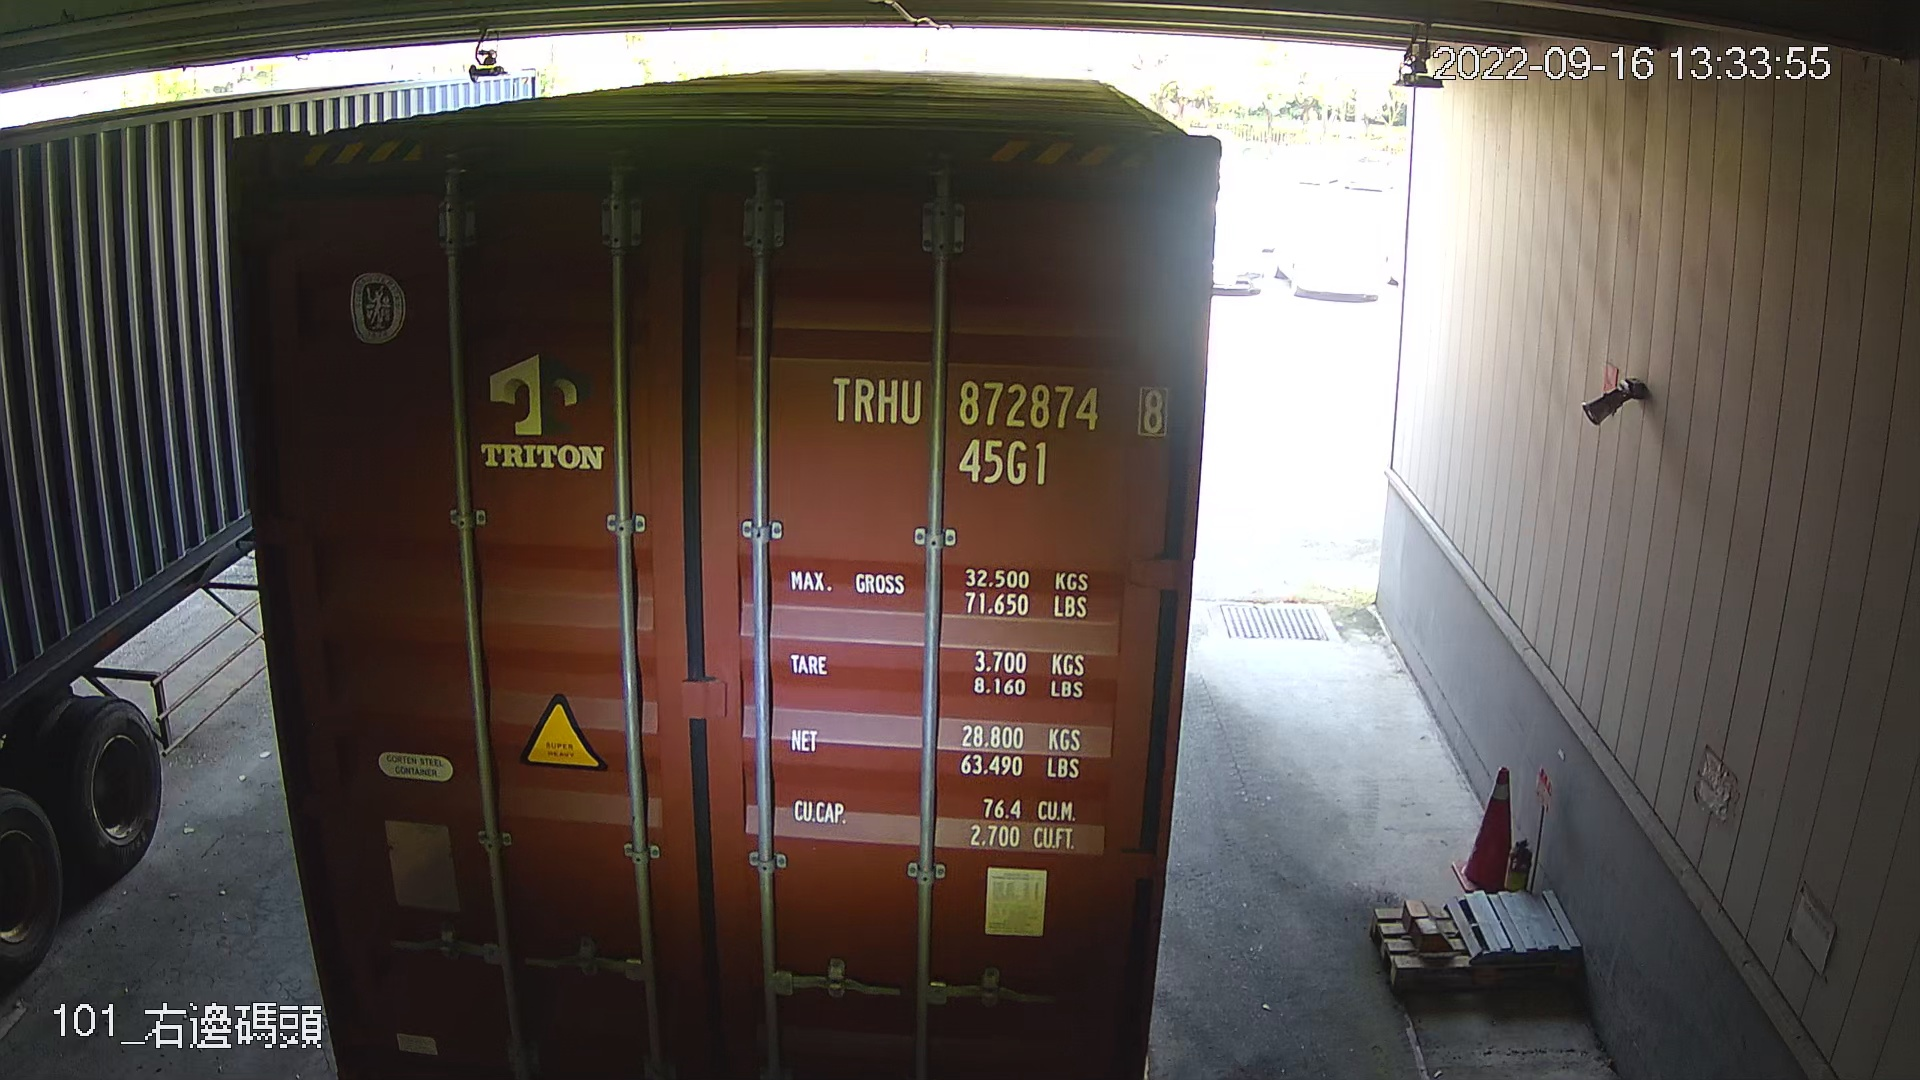container: (810, 345, 1176, 498)
